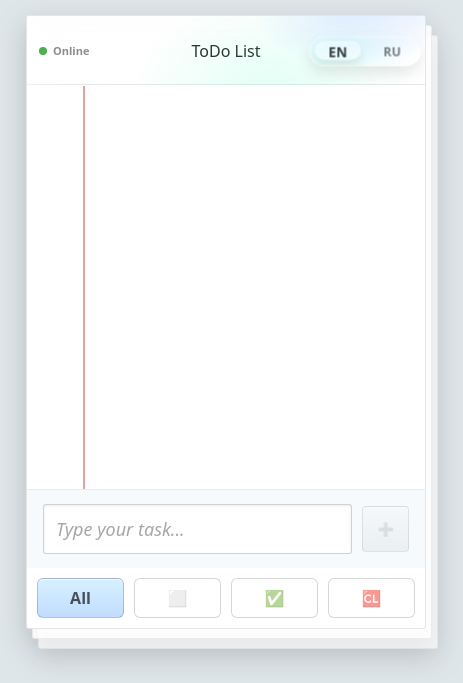
App Component › enables add button when typing
Type "New task" into the field with placeholder "Type your task...".
click(198, 529); type("New task")  # box [43,504,352,554]
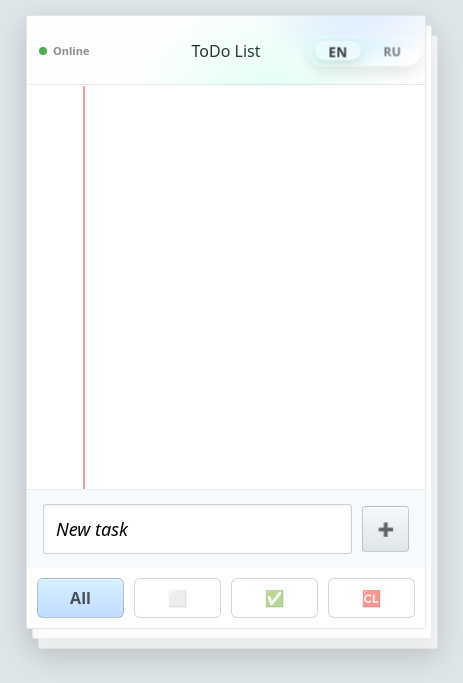
Expected: the button named "Add todo" is enabled, [362,506,409,552]
